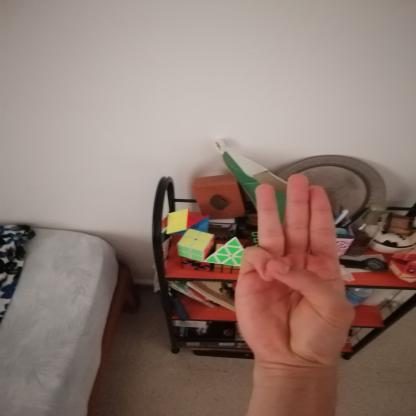THA: (218, 165, 370, 378)
